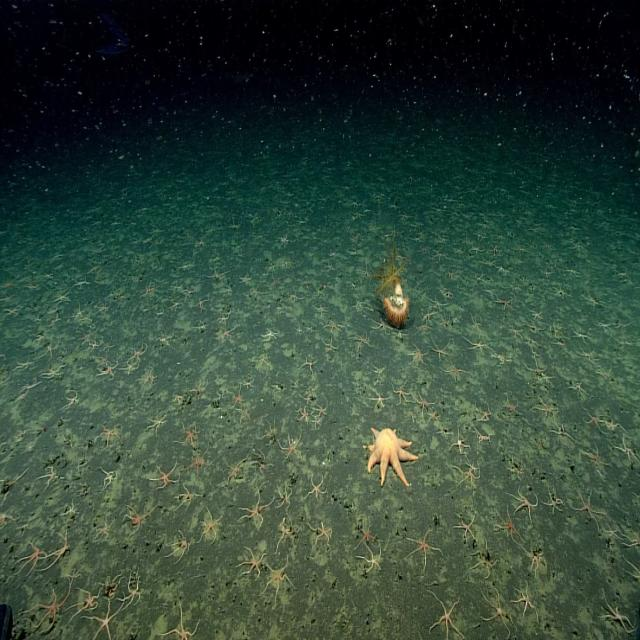brittle-stars: (30, 585, 69, 632), (428, 589, 461, 638), (91, 594, 124, 640), (480, 586, 508, 629), (406, 528, 436, 568), (601, 596, 633, 632), (264, 558, 290, 600), (166, 607, 199, 640), (18, 536, 46, 574), (570, 486, 598, 524), (242, 488, 272, 523), (512, 581, 537, 620), (125, 504, 152, 536), (200, 507, 223, 542), (512, 486, 535, 520), (121, 571, 142, 608), (76, 586, 101, 616), (496, 508, 518, 542), (238, 546, 262, 577), (153, 459, 179, 487), (360, 542, 381, 575), (50, 533, 70, 566), (454, 466, 480, 491), (187, 449, 211, 475), (170, 530, 190, 560), (226, 457, 246, 485), (474, 544, 494, 572), (311, 522, 332, 548), (457, 512, 475, 541), (177, 484, 197, 510), (526, 356, 548, 379), (392, 380, 410, 408), (583, 406, 601, 434), (146, 412, 168, 434), (584, 442, 604, 466), (283, 435, 302, 460), (178, 424, 198, 447), (307, 475, 326, 499), (616, 437, 635, 461), (536, 397, 557, 418), (42, 463, 62, 485), (356, 524, 376, 546), (430, 338, 450, 360), (42, 334, 60, 358), (255, 449, 271, 476), (93, 518, 113, 539), (276, 486, 294, 509), (452, 430, 469, 454), (529, 548, 544, 575), (100, 466, 118, 488), (139, 368, 157, 390), (414, 391, 432, 413), (409, 344, 427, 366), (545, 487, 560, 513), (443, 362, 463, 381), (99, 361, 118, 380), (101, 424, 119, 444), (130, 340, 147, 361), (46, 363, 63, 382), (264, 421, 278, 444), (353, 329, 369, 349), (494, 294, 514, 310), (570, 378, 586, 398), (16, 355, 34, 372), (62, 500, 76, 521), (494, 351, 510, 369), (605, 522, 619, 542), (373, 317, 390, 333), (468, 338, 486, 353), (573, 327, 588, 345), (477, 403, 491, 422), (123, 360, 139, 376), (528, 321, 544, 337), (247, 282, 262, 299), (102, 336, 116, 354), (302, 356, 316, 374), (372, 390, 386, 408), (504, 396, 518, 414), (158, 330, 170, 350), (217, 327, 233, 342), (233, 386, 245, 406), (326, 319, 342, 334), (471, 313, 483, 332), (263, 327, 278, 342), (594, 318, 610, 332), (239, 405, 252, 422), (297, 406, 309, 424), (432, 294, 444, 312), (67, 566, 82, 580), (54, 288, 69, 302), (287, 288, 301, 303), (554, 281, 565, 300), (74, 302, 86, 319), (570, 239, 583, 254), (324, 337, 336, 353), (606, 416, 618, 432), (97, 300, 110, 314), (242, 375, 255, 389), (315, 403, 328, 417), (362, 263, 372, 280), (218, 311, 230, 325), (422, 308, 433, 323), (312, 415, 322, 431), (468, 460, 478, 476), (143, 284, 156, 296), (240, 272, 252, 285), (530, 308, 543, 320), (510, 326, 523, 338), (197, 295, 208, 309), (566, 266, 578, 278), (301, 392, 311, 406), (315, 304, 327, 315), (489, 245, 500, 257), (353, 209, 364, 221), (170, 281, 181, 292), (349, 196, 360, 207), (325, 260, 335, 272), (81, 329, 90, 342), (91, 336, 99, 350), (439, 234, 448, 246), (270, 274, 279, 286), (295, 324, 303, 336), (389, 200, 398, 210), (374, 194, 382, 202)
